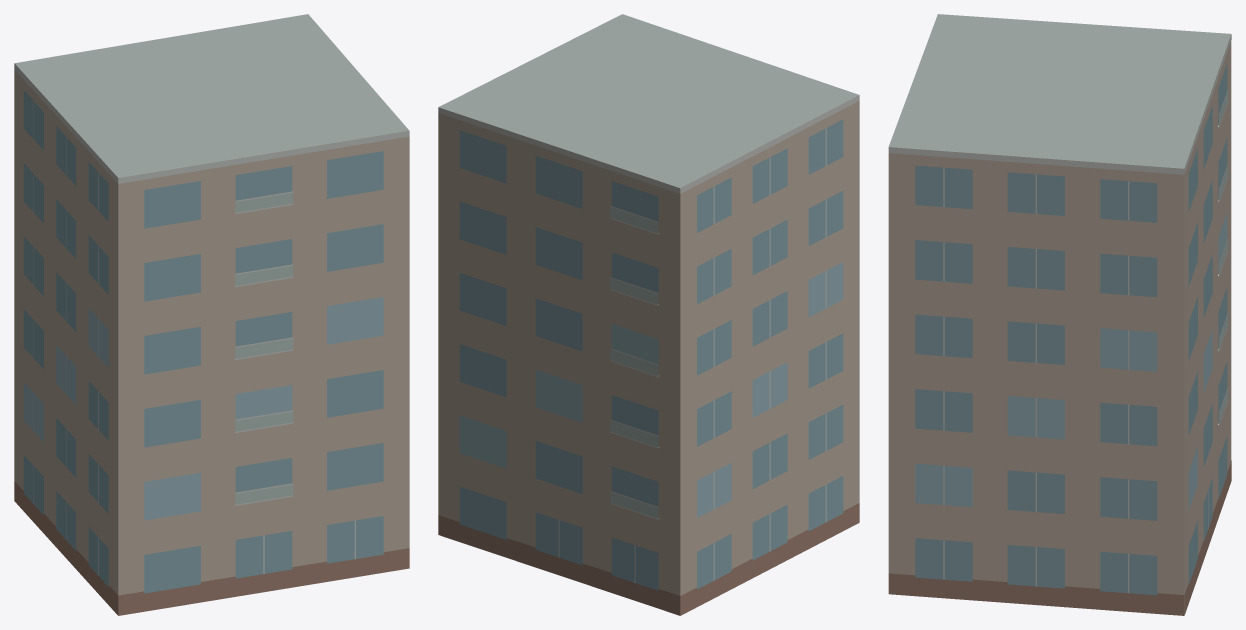
The model's file is survey-upis-32911249.glb.
The picture shows the model from 3 angles, left to right: view 1: azimuth 30°, elevation 25°; view 2: azimuth 150°, elevation 25°; view 3: azimuth 270°, elevation 25°; orthographic projection. The views are drawn at different scales.
Visible parts, largest first — view 1: survey-upis-32911249.tmp; view 2: survey-upis-32911249.tmp; view 3: survey-upis-32911249.tmp.
Boxes of the visible parts, x1,y1,x2,y2 form: survey-upis-32911249.tmp: (14,14,409,615); survey-upis-32911249.tmp: (438,14,859,615); survey-upis-32911249.tmp: (888,14,1231,615).
Bounding box in the file's own units: 13.6 × 18.3 × 12.73.
